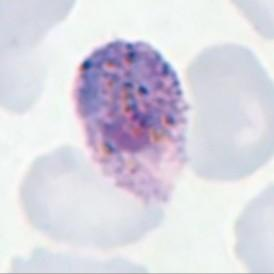Infected: (74, 39, 193, 204)
Uninfected: (17, 142, 166, 244), (183, 41, 274, 183)
